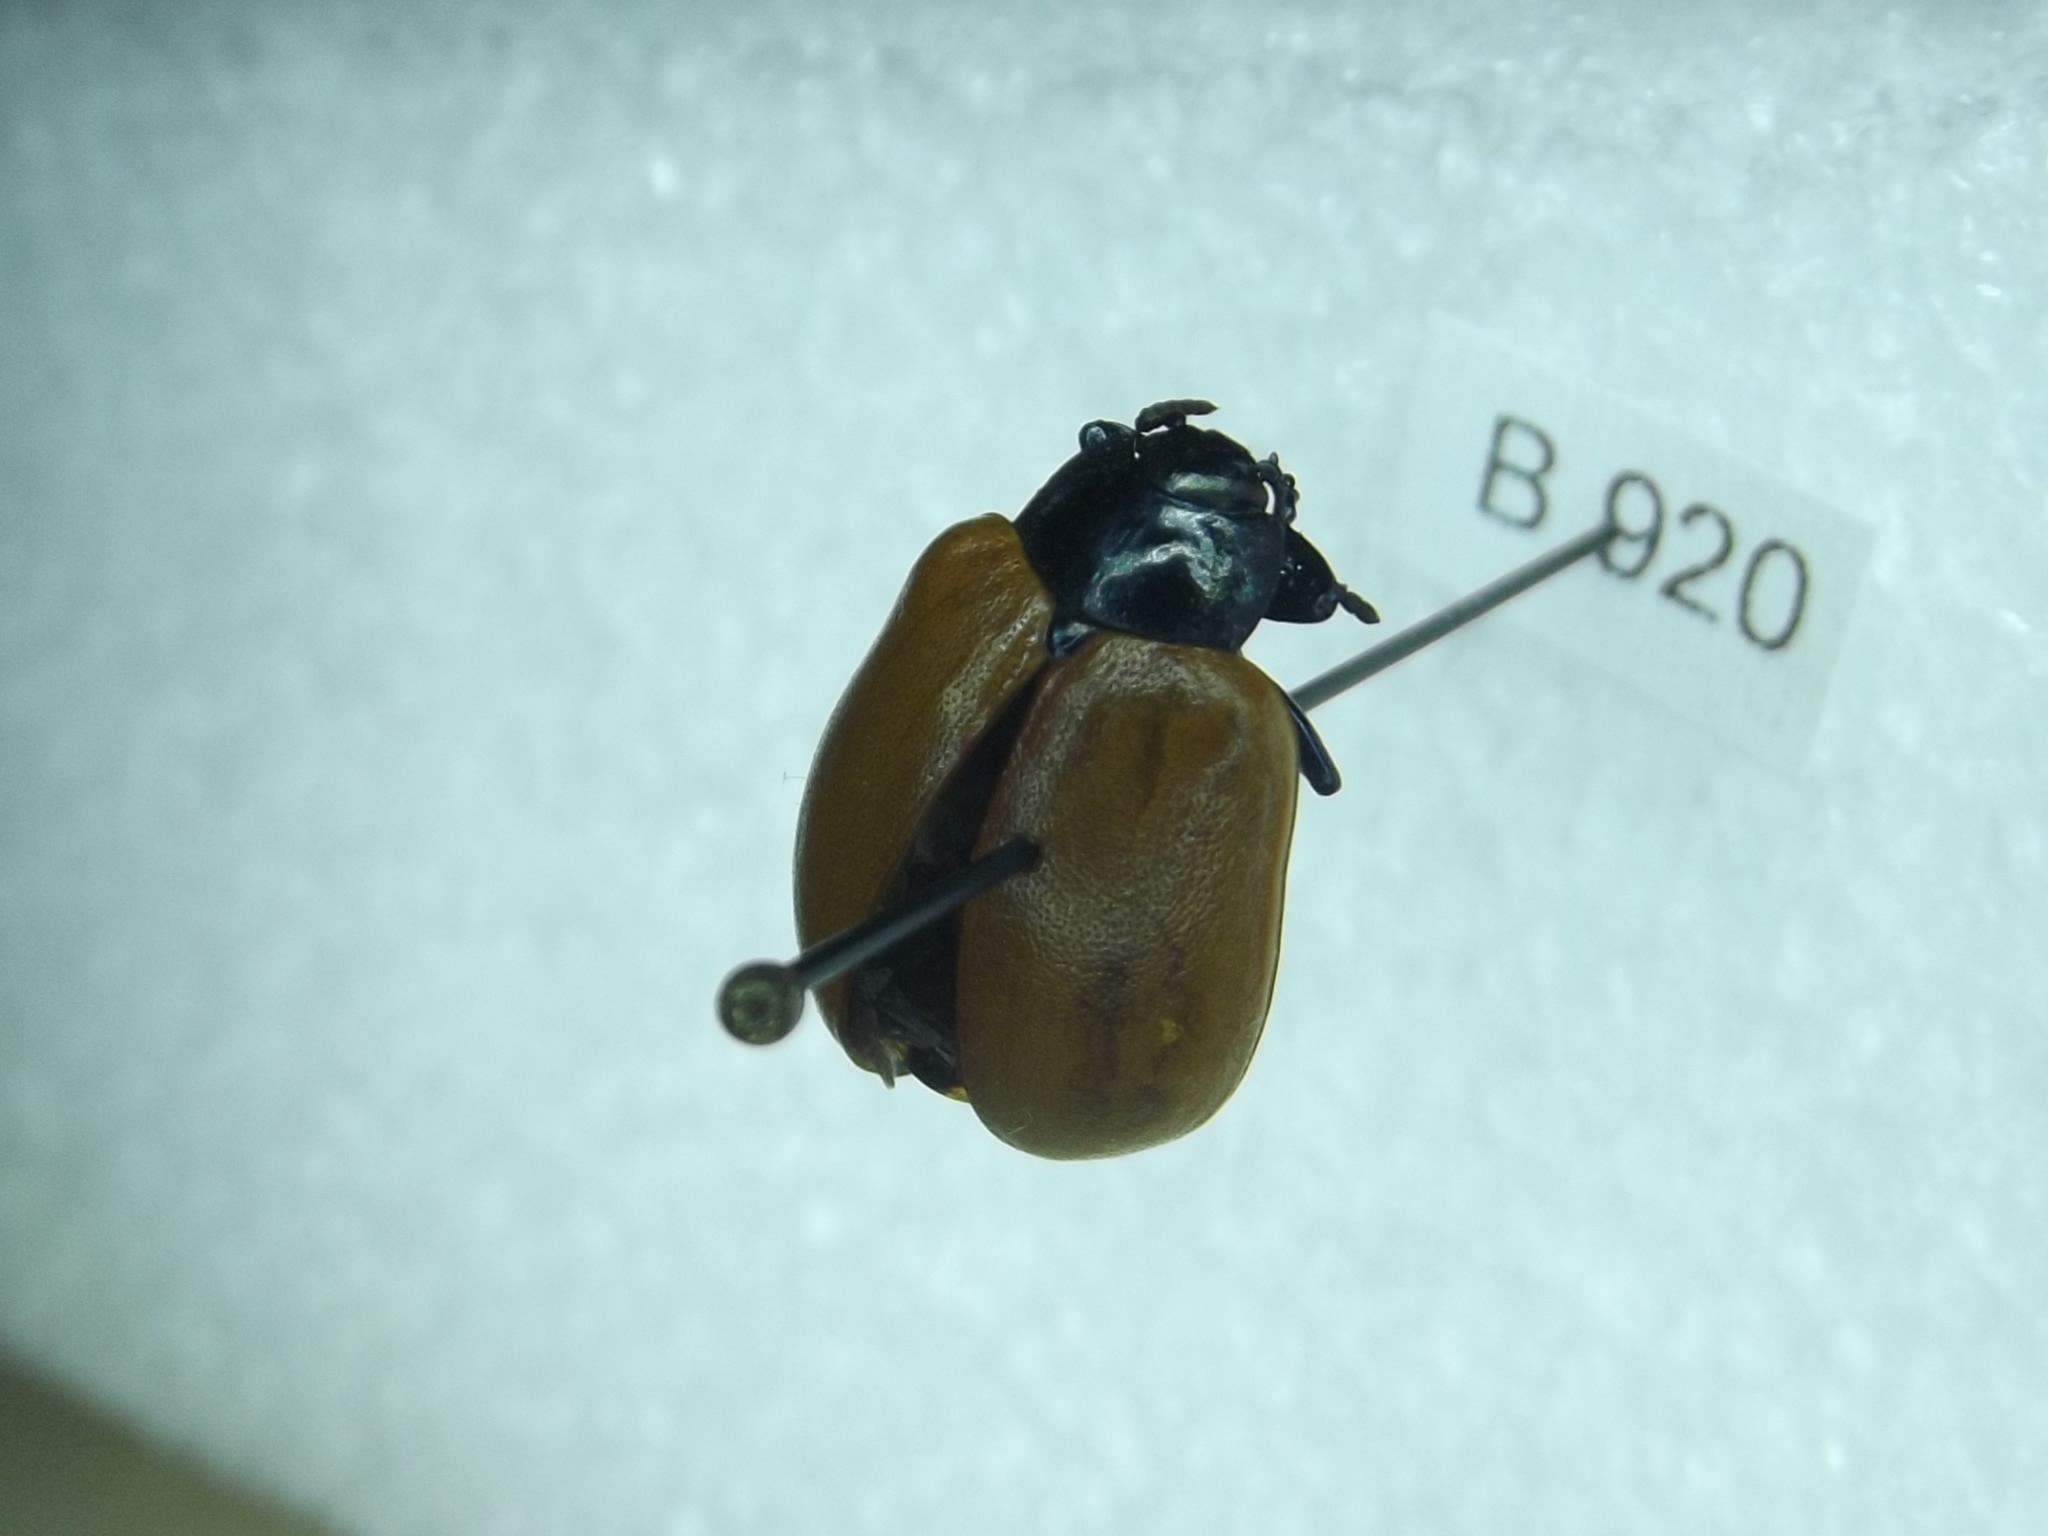Chrysomela_populi: (769, 387, 1392, 1184)
